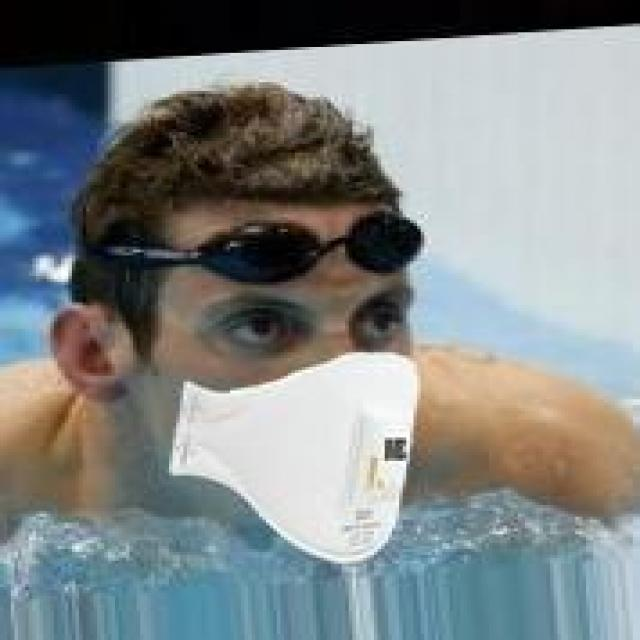mask: (47, 97, 467, 569)
